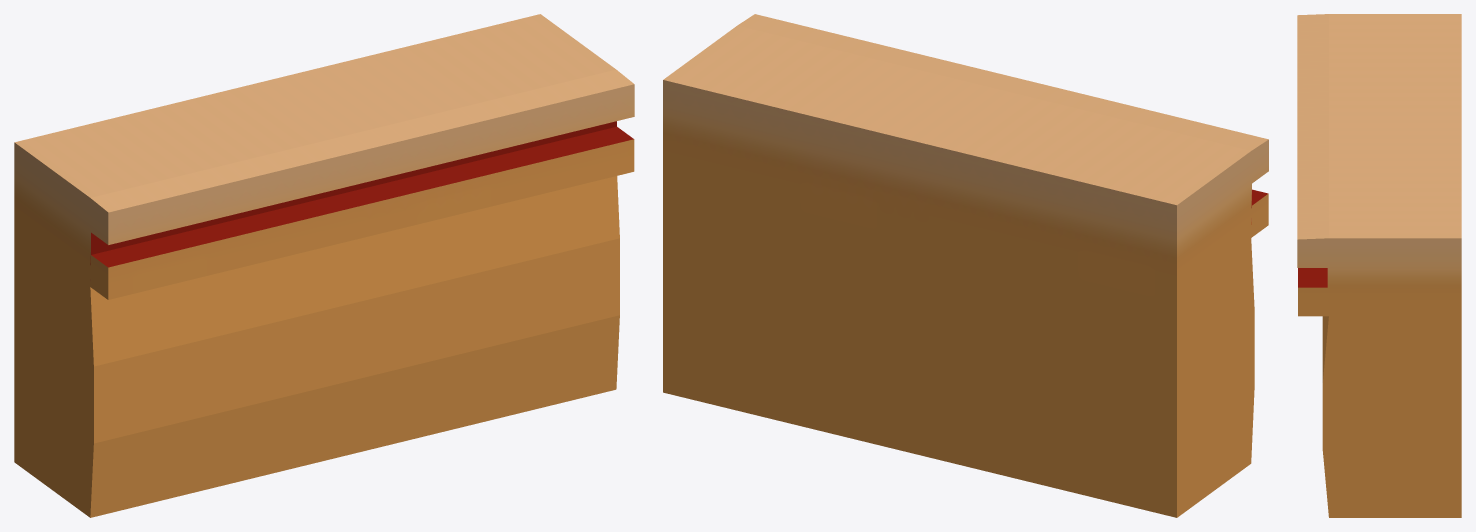
File: MuralhaPerfilT.glb
The picture shows the model from 3 angles, left to right: view 1: azimuth 30°, elevation 25°; view 2: azimuth 150°, elevation 25°; view 3: azimuth 270°, elevation 25°; orthographic projection. The views are drawn at different scales.
Visible parts, largest first — view 1: MuralhaPerfilT; view 2: MuralhaPerfilT; view 3: MuralhaPerfilT.
Part boxes in pixels (<box>): MuralhaPerfilT: <box>14,14,634,517</box>; MuralhaPerfilT: <box>663,14,1268,517</box>; MuralhaPerfilT: <box>1297,14,1461,517</box>.
Size of the model in its own units: 8 by 4.65 by 2.48.
Materials: 1 (1 with a texture image).
